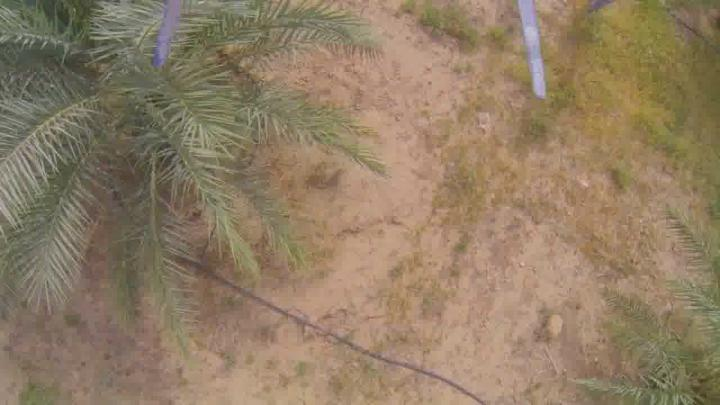Date-Palm-Crown: (0, 1, 240, 208), (618, 363, 720, 405)
